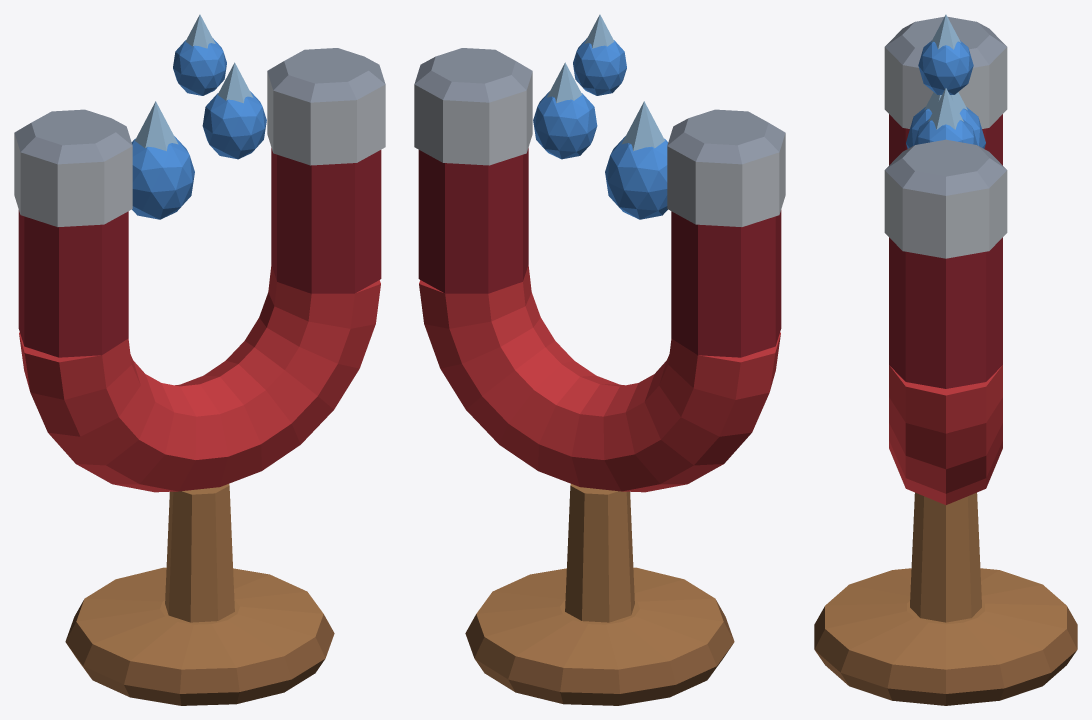
File: rain_magnet.fbx
3 renders of one model, left to right at view 1: azimuth 30°, elevation 25°; view 2: azimuth 150°, elevation 25°; view 3: azimuth 270°, elevation 25°, orthographic.
Visible parts, largest first — view 1: rain_magnet; view 2: rain_magnet; view 3: rain_magnet.
Boxes of the visible parts, bbox=[...] form: rain_magnet: bbox=[14, 14, 385, 705]; rain_magnet: bbox=[414, 14, 785, 705]; rain_magnet: bbox=[814, 14, 1077, 705].
Size of the model in its own units: 5.68 by 9.68 by 3.61.
